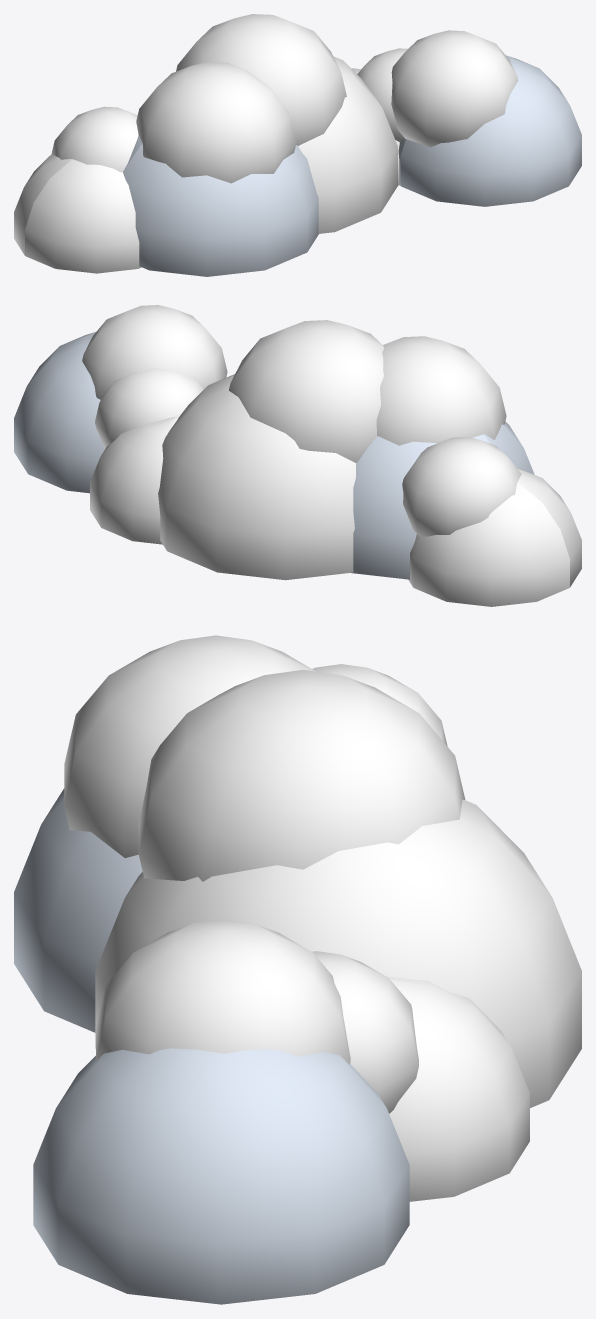
The model's file is CloudSmall.glb.
3 views of the same model, one above another, from view 1: azimuth 30°, elevation 25°; view 2: azimuth 150°, elevation 25°; view 3: azimuth 270°, elevation 25° (orthographic). The views are drawn at different scales.
Visible parts, largest first — view 1: Body; view 2: Body; view 3: Body.
Boxes of the visible parts, box(x1,y1,x2,y2) form: Body: box(14, 14, 581, 276); Body: box(14, 305, 581, 606); Body: box(14, 635, 581, 1304).
Bounding box in the file's own units: 14.27 × 4.77 × 6.96.
1 material, 1 textured.
